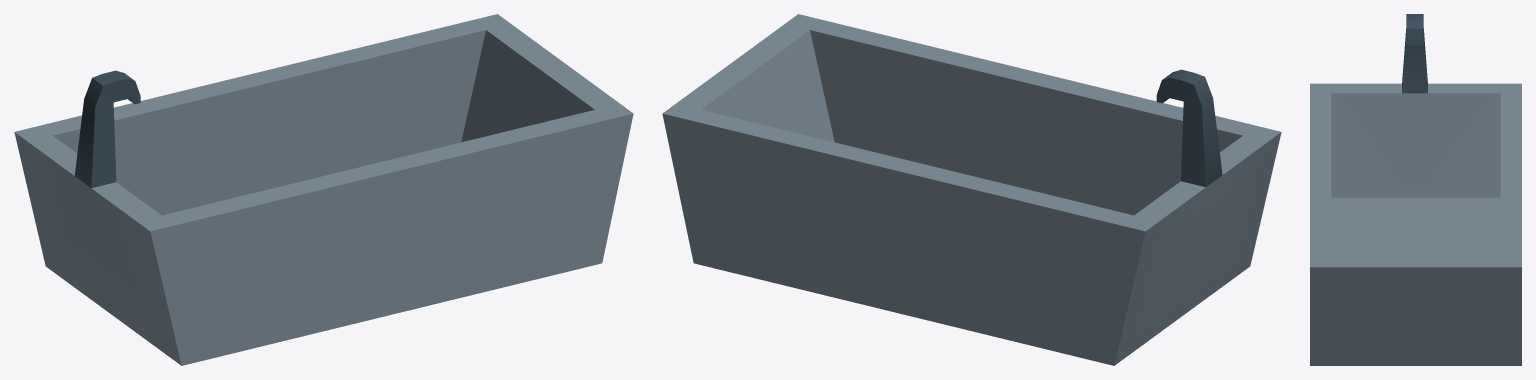
Rendered from bathtub.fbx.
3 views of the same model, side by side, from view 1: azimuth 30°, elevation 25°; view 2: azimuth 150°, elevation 25°; view 3: azimuth 270°, elevation 25° (orthographic). The views are drawn at different scales.
Visible parts, largest first — view 1: pCube1; view 2: pCube1; view 3: pCube1.
Boxes of the visible parts, x1,y1,x2,y2 form: pCube1: [14, 14, 633, 365]; pCube1: [662, 14, 1281, 365]; pCube1: [1310, 14, 1521, 365].
Bounding box in the file's own units: 3.56 × 1.69 × 1.73.
